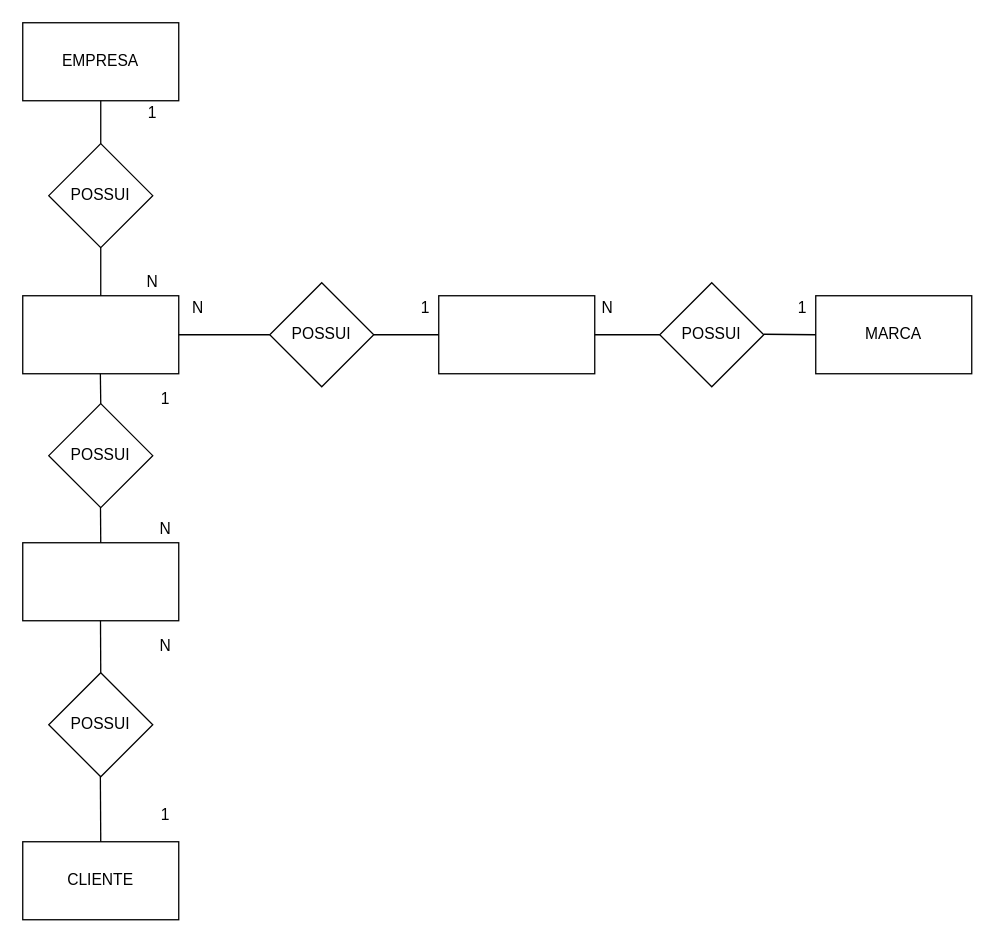
Some shapes in this 994 by 942 pixel diagram are drawn without their labels. The centre of each missing label's shape, as x and y in pixels:
FICHA_CLIENTE: (100,581)
MODELO: (516,334)
VEICULO: (100,334)
